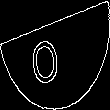O_N: (38, 25, 72, 85)
